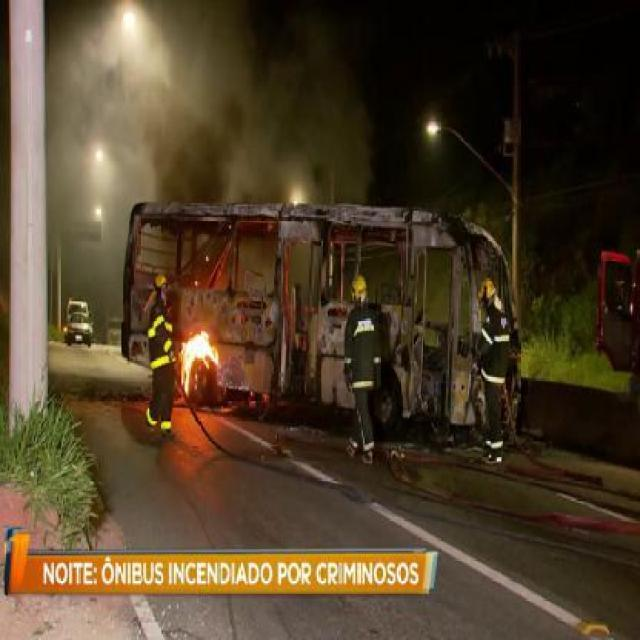Fire: (175, 328, 220, 396)
